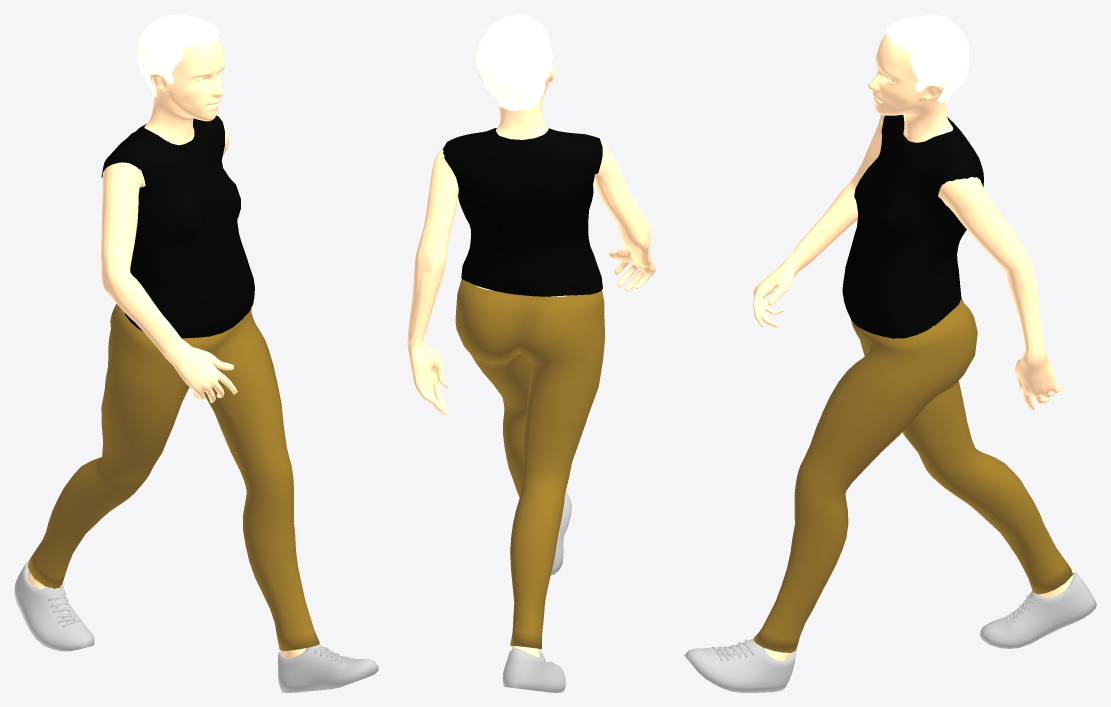
File: Woman_02_Walking-transformed.glb
3 views of the same model, side by side, from view 1: azimuth 30°, elevation 25°; view 2: azimuth 150°, elevation 25°; view 3: azimuth 270°, elevation 25° (orthographic). The views are drawn at different scales.
Visible parts, largest first — view 1: Bottoms.002, Top.002, Body.002, Shoes.002, Hair.002; view 2: Bottoms.002, Top.002, Body.002, Hair.002, Shoes.002; view 3: Bottoms.002, Top.002, Body.002, Shoes.002, Hair.002.
Part boxes in pixels (x1,y1,x2,y2): Bottoms.002: [27, 303, 319, 650]; Top.002: [101, 115, 254, 338]; Body.002: [27, 37, 306, 658]; Shoes.002: [14, 560, 378, 692]; Hair.002: [137, 14, 220, 97]; Bottoms.002: [455, 278, 605, 649]; Top.002: [442, 128, 602, 296]; Body.002: [407, 42, 655, 657]; Hair.002: [476, 14, 552, 110]; Shoes.002: [502, 491, 571, 692]; Bottoms.002: [753, 297, 1072, 652]; Top.002: [842, 115, 983, 338]; Body.002: [753, 33, 1073, 660]; Shoes.002: [684, 572, 1096, 692]; Hair.002: [886, 14, 969, 104].
Size of the model in its own units: 0.5256 by 1.66 by 0.945.
